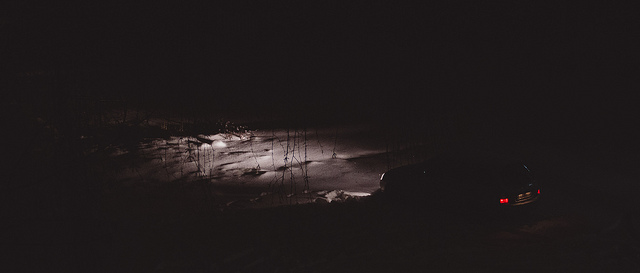car: (375, 146, 549, 228)
